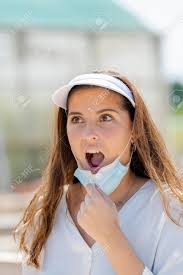mask_weared_incorrect: (63, 93, 136, 197)
